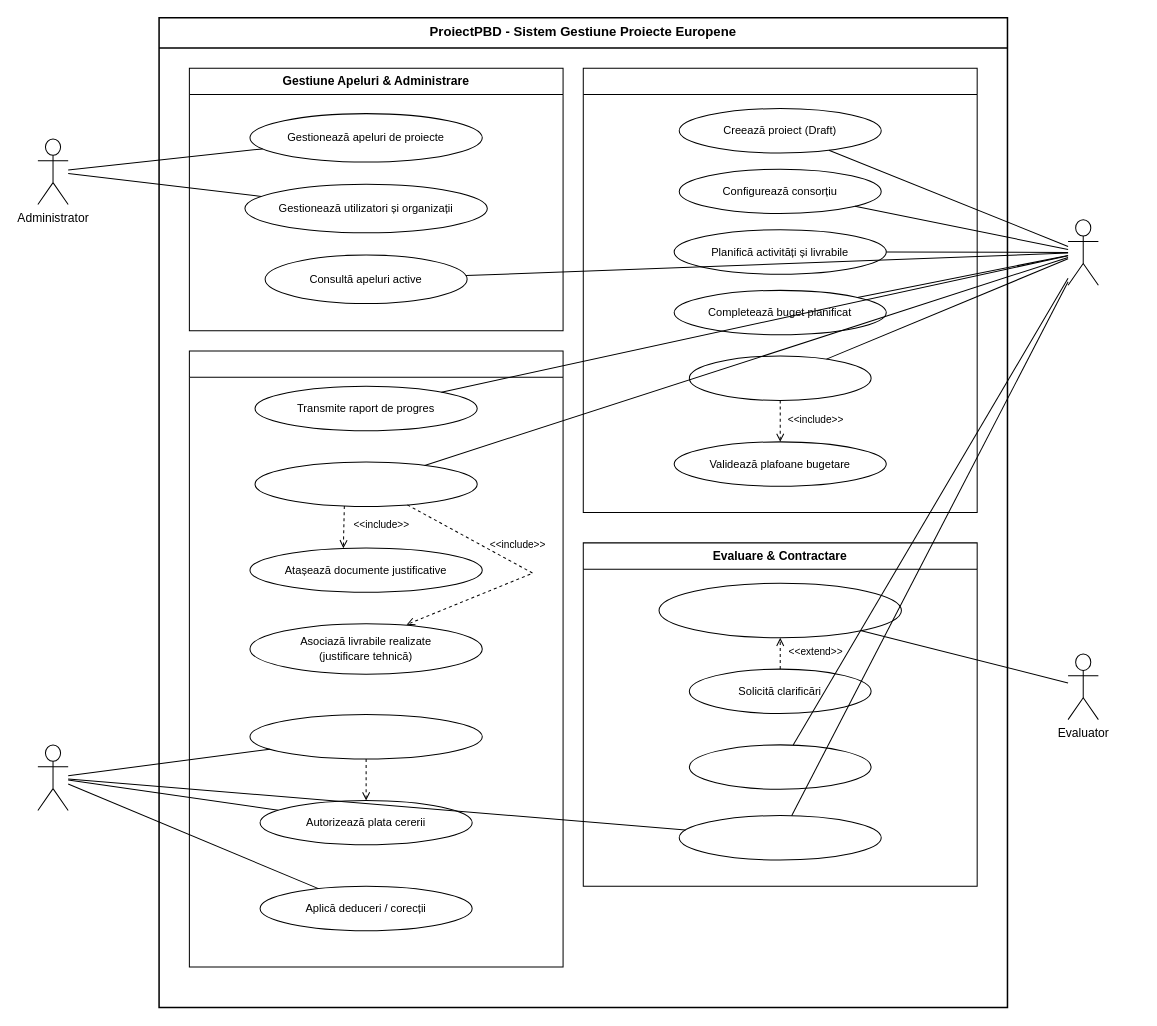
Image size: 1157x1026. Some labels were removed from this diagram. Each missing label, with the box of its shape:
Completează fișă evaluare (proiect alocat): (658, 582, 901, 638)
Creează cerere de rambursare: (254, 461, 477, 507)
Depune proiect: (688, 355, 871, 400)
Elaborare & Depunere Proiect: (582, 67, 977, 513)
Implementare & Rambursare: (188, 350, 563, 967)
Ofițer AM: (37, 744, 68, 811)
Răspunde la clarificări: (688, 744, 871, 789)
Solicitant / Beneficiar: (1067, 219, 1098, 285)
Verifică cerere și livrabile: (249, 714, 482, 759)
Încheie contract finanțare: (678, 815, 881, 860)
